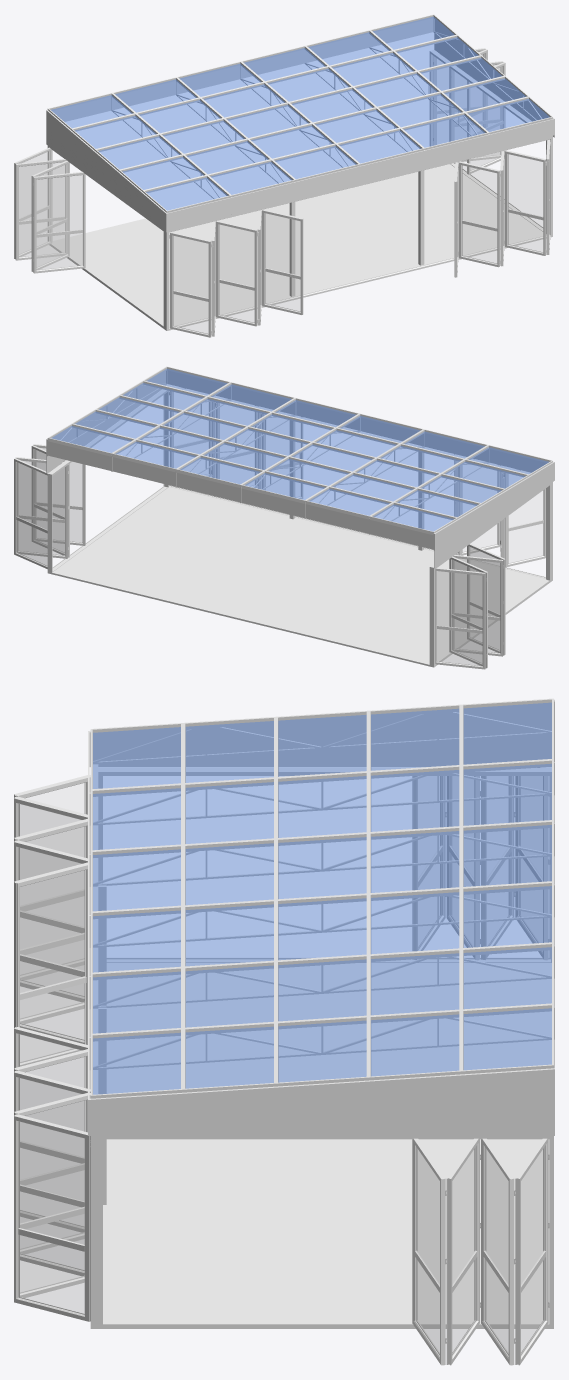
File: eco-patio.obj
3 renders of one model, top to bottom at view 1: azimuth 30°, elevation 25°; view 2: azimuth 150°, elevation 25°; view 3: azimuth 270°, elevation 25°, orthographic. The views are drawn at different scales.
Visible parts, largest first — view 1: Component_1_001, Group_020, Component_6_008, Component_30_013, Component_30_017, Component_30_001, Component_30_009, Component_30_005, Component_6_006, Group_081, Group_025, Group_077 (+86 smaller); view 2: Component_1_001, Group_020, Component_6_007, Component_6_001, Component_6_003, Component_6_005, Component_30_003, Component_35_001, Component_6_006, Component_6_008, Group_077, Group_073 (+79 smaller); view 3: Component_1_001, Group_020, Component_30_019, Component_30_001, Component_30_017, Component_30_007, Group_061, Group_051, Group_047, Group_037, Group_033, Group_029 (+89 smaller).
Part boxes in pixels (x1,y1,x2,y2): Component_1_001: [52, 163, 552, 330]; Group_020: [46, 18, 554, 231]; Component_6_008: [37, 175, 82, 269]; Component_30_013: [458, 161, 499, 267]; Component_30_017: [504, 150, 545, 255]; Component_30_001: [262, 209, 303, 314]; Component_30_009: [216, 220, 257, 326]; Component_30_005: [170, 232, 211, 337]; Component_6_006: [37, 164, 67, 266]; Group_081: [373, 16, 454, 49]; Group_025: [146, 177, 227, 210]; Group_077: [397, 37, 478, 70]; Component_1_001: [52, 485, 552, 667]; Group_020: [46, 370, 554, 568]; Component_6_007: [437, 571, 482, 665]; Component_6_001: [19, 461, 64, 555]; Component_6_003: [17, 462, 47, 565]; Component_6_005: [452, 560, 482, 662]; Component_30_003: [504, 468, 545, 567]; Component_35_001: [48, 389, 168, 574]; Component_6_006: [455, 558, 499, 652]; Component_6_008: [470, 547, 499, 649]; Group_077: [75, 411, 155, 438]; Group_073: [99, 397, 179, 424]; Component_1_001: [90, 959, 553, 1328]; Group_020: [88, 700, 554, 1135]; Component_30_019: [14, 1114, 90, 1321]; Component_30_001: [14, 862, 90, 1066]; Component_30_017: [14, 1092, 90, 1297]; Component_30_007: [14, 840, 87, 1043]; Group_061: [463, 886, 551, 947]; Group_051: [463, 825, 551, 886]; Group_047: [371, 831, 459, 892]; Group_037: [371, 770, 459, 831]; Group_033: [278, 776, 366, 837]; Group_029: [185, 721, 273, 782].
Size of the model in its own units: 495 by 136 by 253.
